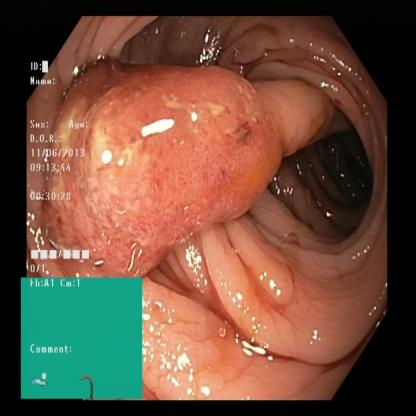Labels: (20, 276, 144, 400), (29, 55, 94, 275)
Polyps: (105, 76, 295, 222)
